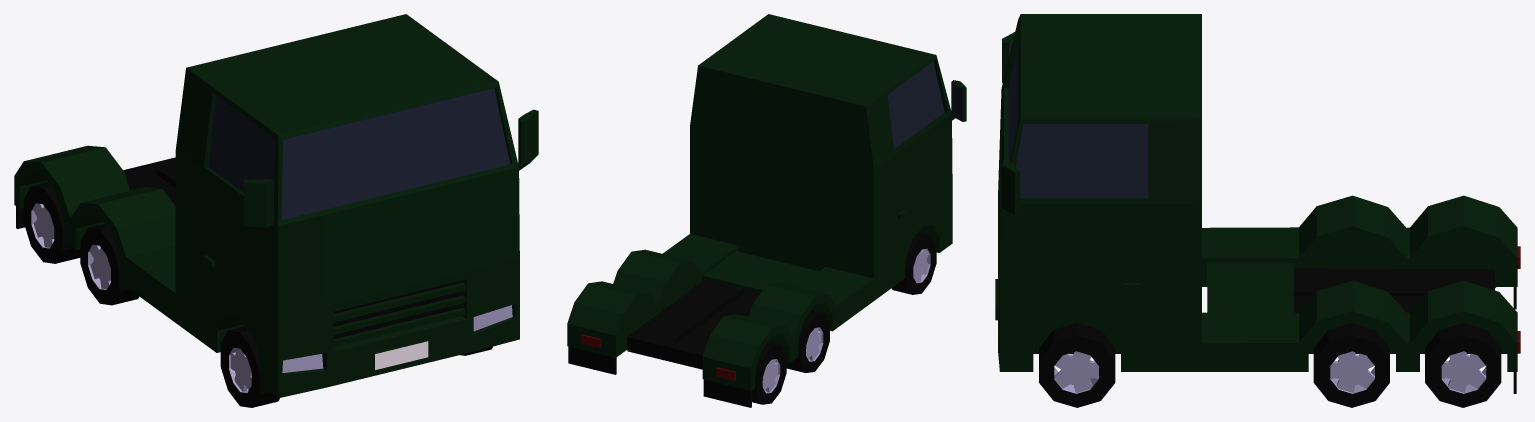
Rendered from truck.glb.
3 renders of one model, left to right at view 1: azimuth 30°, elevation 25°; view 2: azimuth 150°, elevation 25°; view 3: azimuth 270°, elevation 25°, orthographic. The views are drawn at different scales.
Visible parts, largest first — view 1: Truck, Truck_wheel_front_right, Truck_wheel_rear_right_2, Truck_wheel_rear_right; view 2: Truck, Truck_wheel_rear_right, Truck_wheel_front_right, Truck_wheel_rear_right_2; view 3: Truck, Truck_wheel_front_left, Truck_wheel_rear_left_2, Truck_wheel_rear_left.
Boxes of the visible parts, <box> form: Truck: <box>14,14,538,398</box>; Truck_wheel_front_right: <box>220,326,279,407</box>; Truck_wheel_rear_right_2: <box>23,182,80,263</box>; Truck_wheel_rear_right: <box>80,224,139,305</box>; Truck: <box>567,14,966,407</box>; Truck_wheel_rear_right: <box>786,311,829,372</box>; Truck_wheel_front_right: <box>891,233,936,294</box>; Truck_wheel_rear_right_2: <box>752,342,786,404</box>; Truck: <box>995,14,1520,393</box>; Truck_wheel_front_left: <box>1039,323,1115,407</box>; Truck_wheel_rear_left_2: <box>1425,323,1501,407</box>; Truck_wheel_rear_left: <box>1313,323,1389,407</box>.
Bounding box in the file's own units: 2.92 × 2.74 × 4.6.
